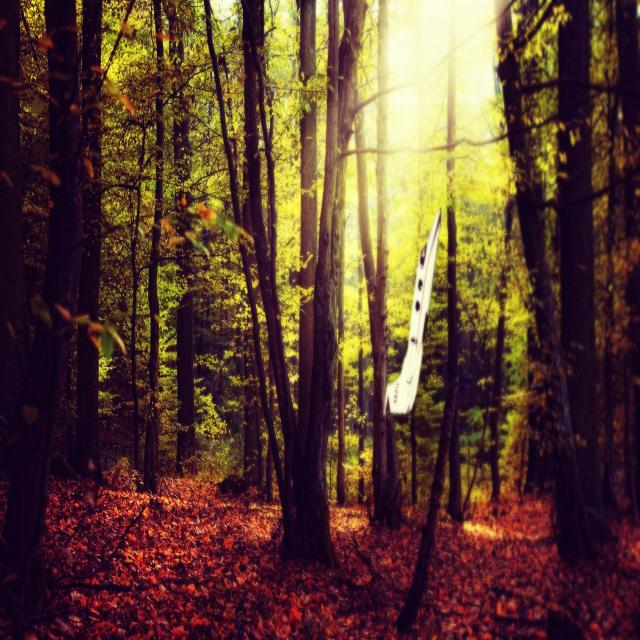airplane: (382, 208, 442, 416)
